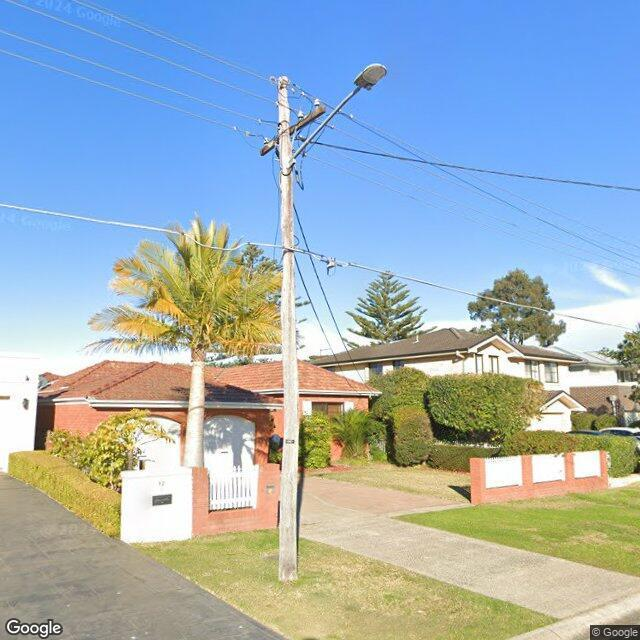crossarm: (260, 106, 326, 156)
streetlight: (288, 63, 389, 169)
timber-pole: (277, 76, 298, 584)
